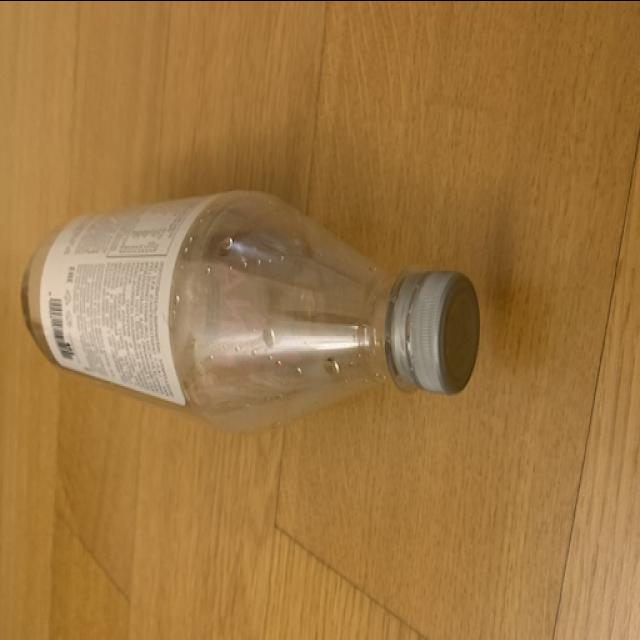PET: (19, 186, 484, 428)
